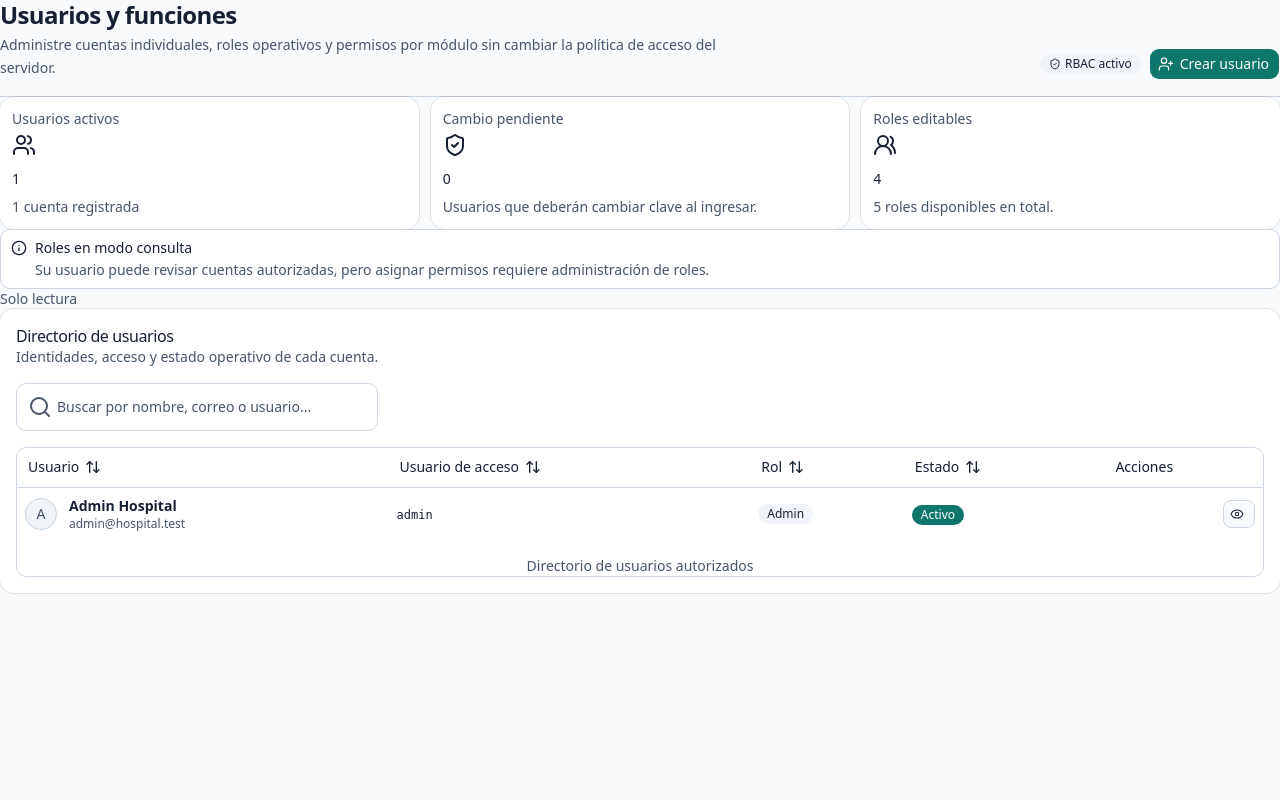
Scenario: UsersView › hides elevated roles from user creators without admin assignment permission
This screenshot has width=1280, height=800.
Click the button "Crear usuario": click(1214, 64) [1149,48,1279,80]
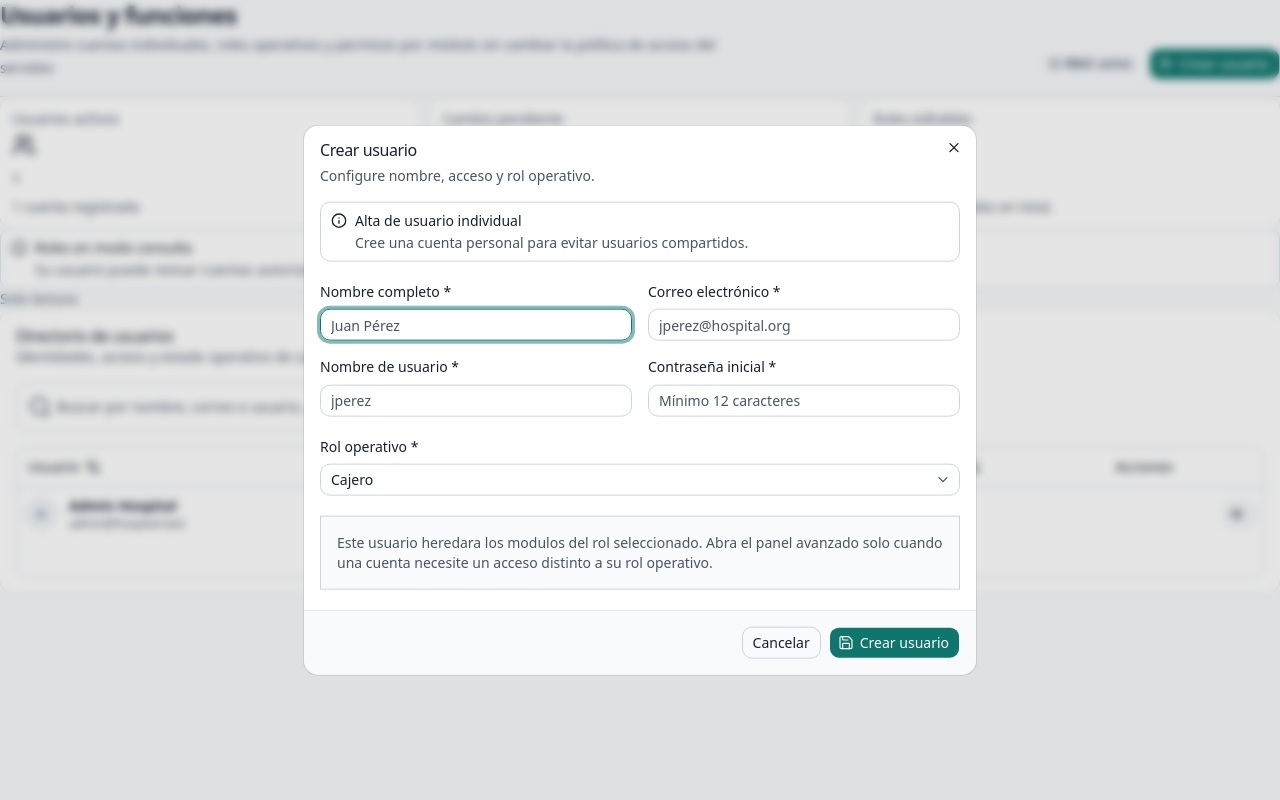
Click the dropdown named "rol operativo": click(352, 479) [320,463,960,495]
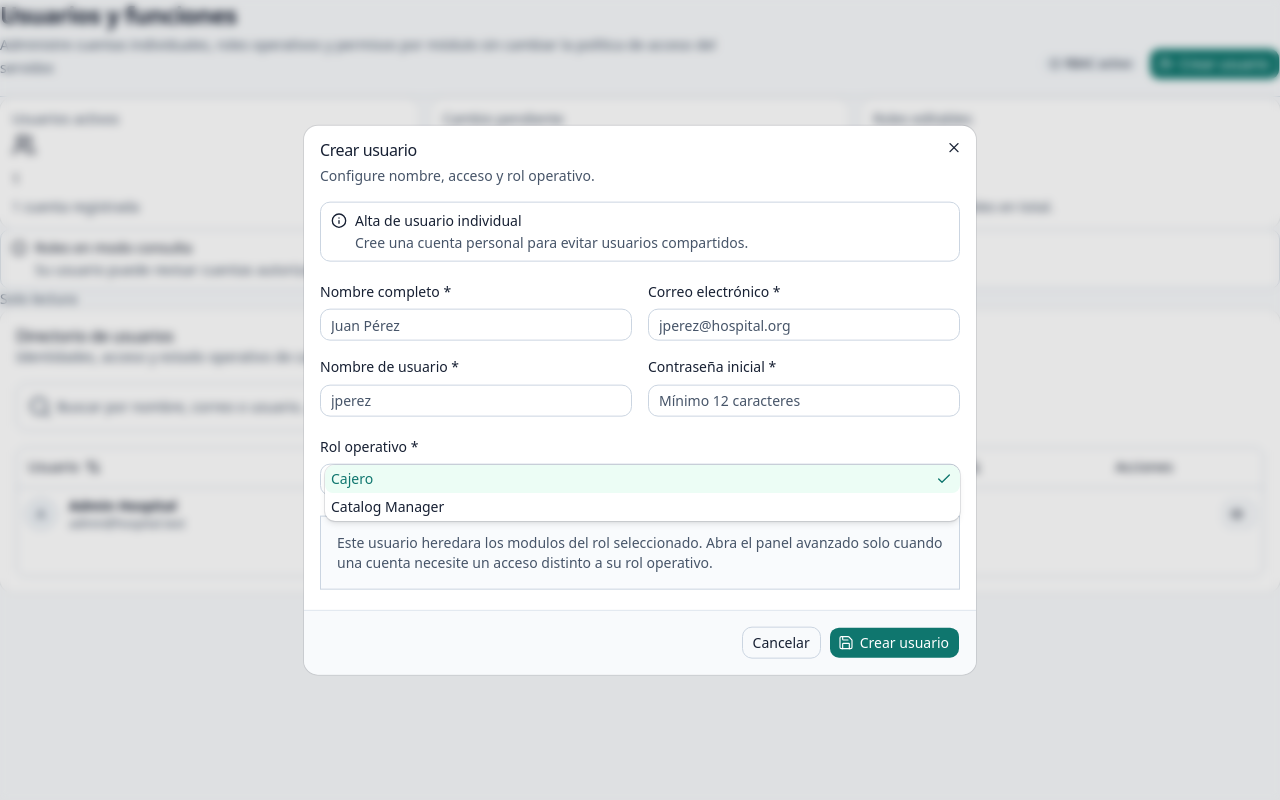
Now the option "Cajero" is shown, box [325,465,960,493]
Now the option "Catalog Manager" is shown, box [331,497,444,516]
